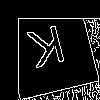K: (25, 25, 70, 78)
